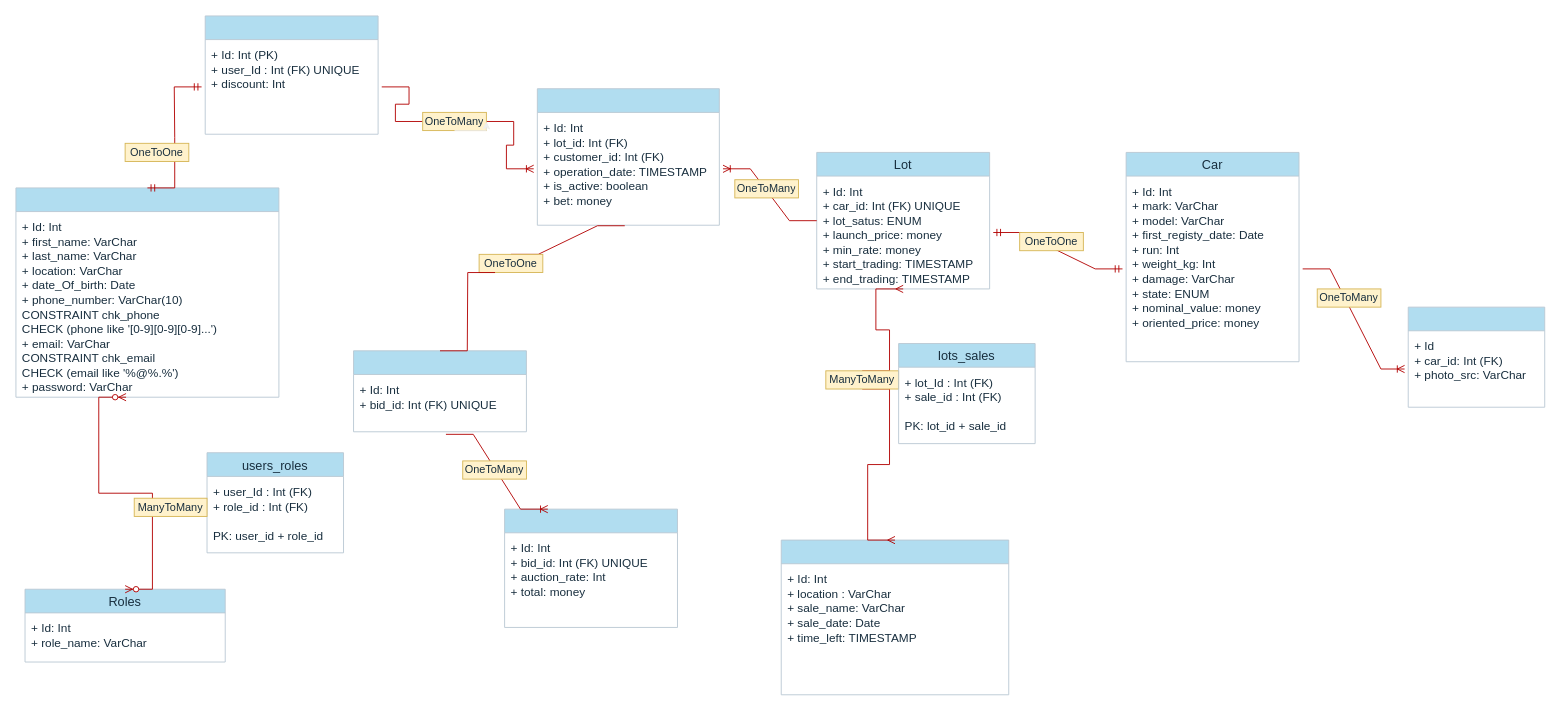
This 1561x711 diagram has some shape labels left out. The box of each missing label's shape, as (x1, y1, x2, y2) in pixels:
AutoPhotos: (1407, 306, 1545, 407)
Bid: (536, 88, 719, 225)
Customers: (204, 15, 378, 134)
OrderDetails: (504, 508, 677, 627)
Orders: (353, 350, 526, 432)
SaleDepartment: (780, 539, 1009, 695)
Users: (15, 187, 279, 397)
